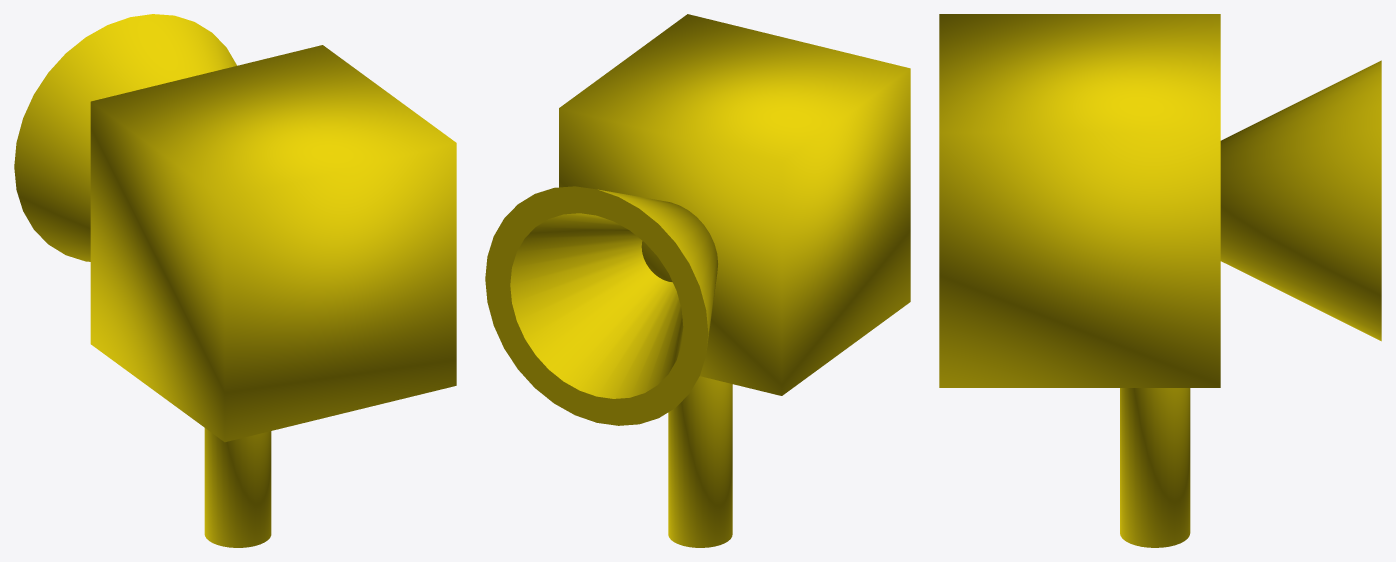
Rendered from Camera.fbx.
The picture shows the model from 3 angles, left to right: view 1: azimuth 30°, elevation 25°; view 2: azimuth 150°, elevation 25°; view 3: azimuth 270°, elevation 25°; orthographic projection. The views are drawn at different scales.
Visible parts, largest first — view 1: Cone; view 2: Cone; view 3: Cone.
Part boxes in pixels (box(x1,y1,x2,y2)): Cone: box(14, 14, 456, 547); Cone: box(485, 14, 910, 547); Cone: box(939, 14, 1381, 547).
Size of the model in its own units: 40 by 72.12 by 62.86.
